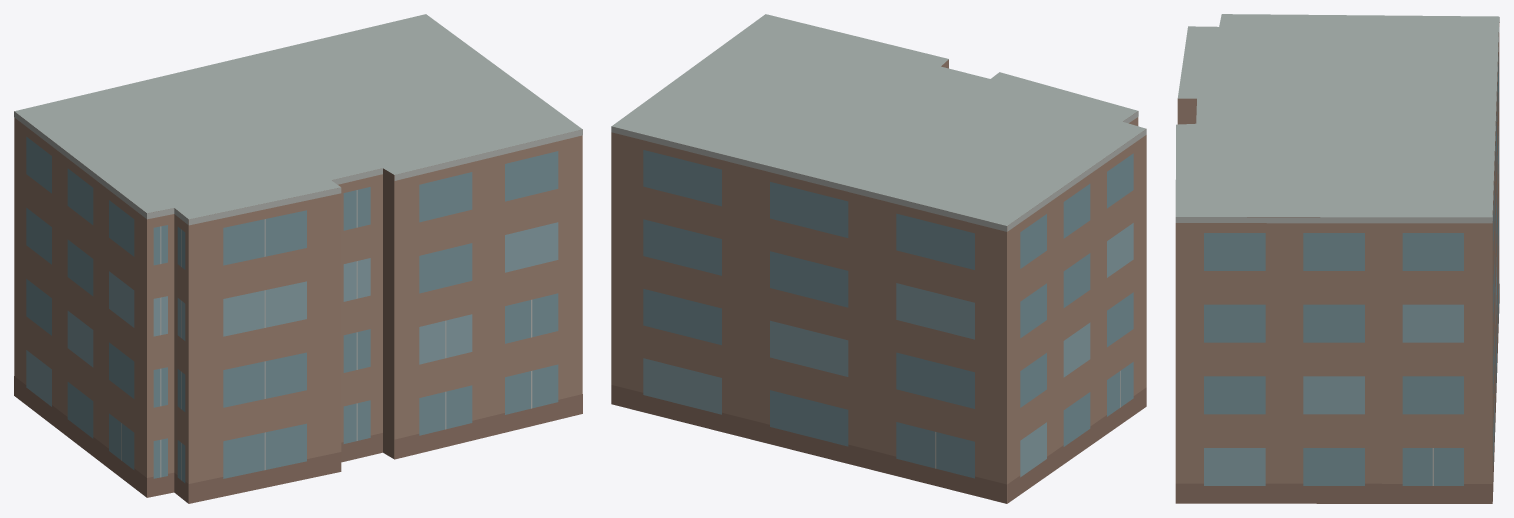
Rendered from survey-upis-32724098.glb.
3 renders of one model, left to right at view 1: azimuth 30°, elevation 25°; view 2: azimuth 150°, elevation 25°; view 3: azimuth 270°, elevation 25°, orthographic. The views are drawn at different scales.
Parts seen in each view (by area): view 1: survey-upis-32724098.tmp; view 2: survey-upis-32724098.tmp; view 3: survey-upis-32724098.tmp.
Boxes of the visible parts, x1,y1,x2,y2 form: survey-upis-32724098.tmp: (14,14,582,503); survey-upis-32724098.tmp: (611,14,1146,503); survey-upis-32724098.tmp: (1175,14,1499,503).
Bounding box in the file's own units: 17.5 × 11.5 × 11.78.
